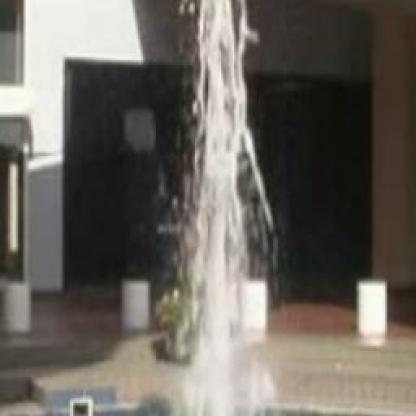other: (178, 233, 269, 403)
